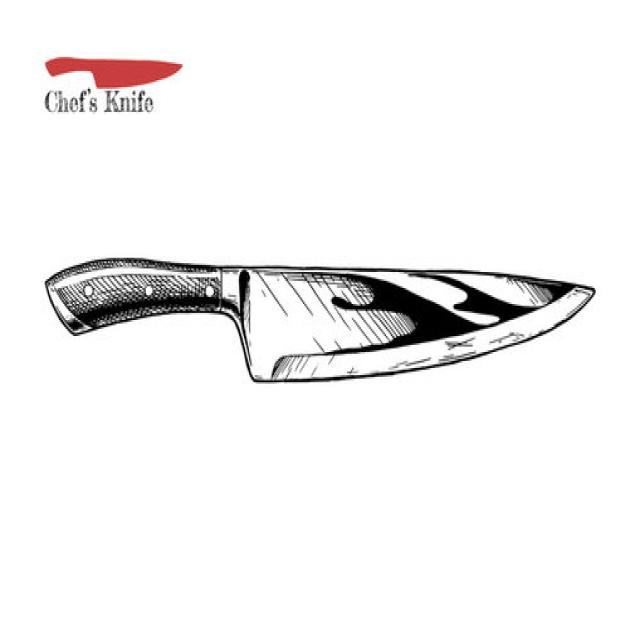Weapon: (31, 236, 602, 384)
